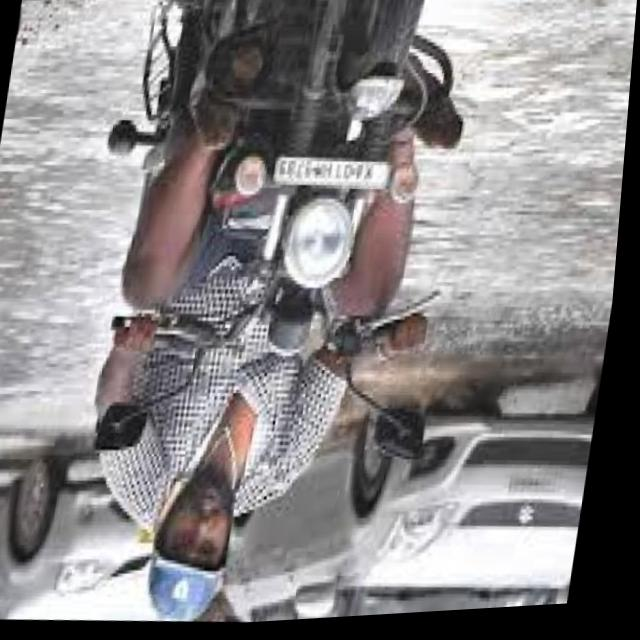USING_MOBILE: (151, 467, 202, 550)
WITH_HELMET: (146, 468, 255, 629)
